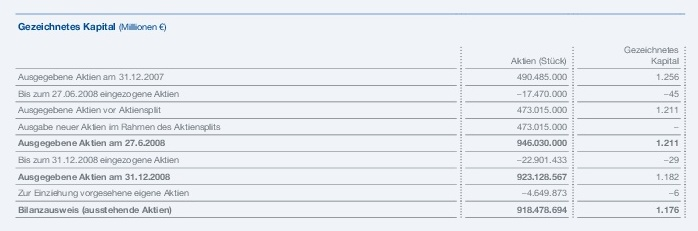table: (0, 0, 698, 231)
